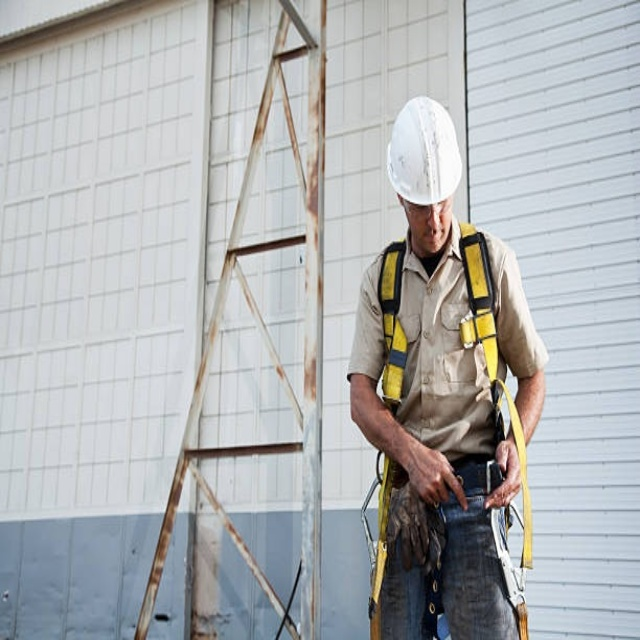Gafas: (399, 195, 456, 218)
Sin_guantes: (403, 439, 468, 514), (482, 434, 523, 510)
Sin_mascara: (415, 224, 448, 253)
